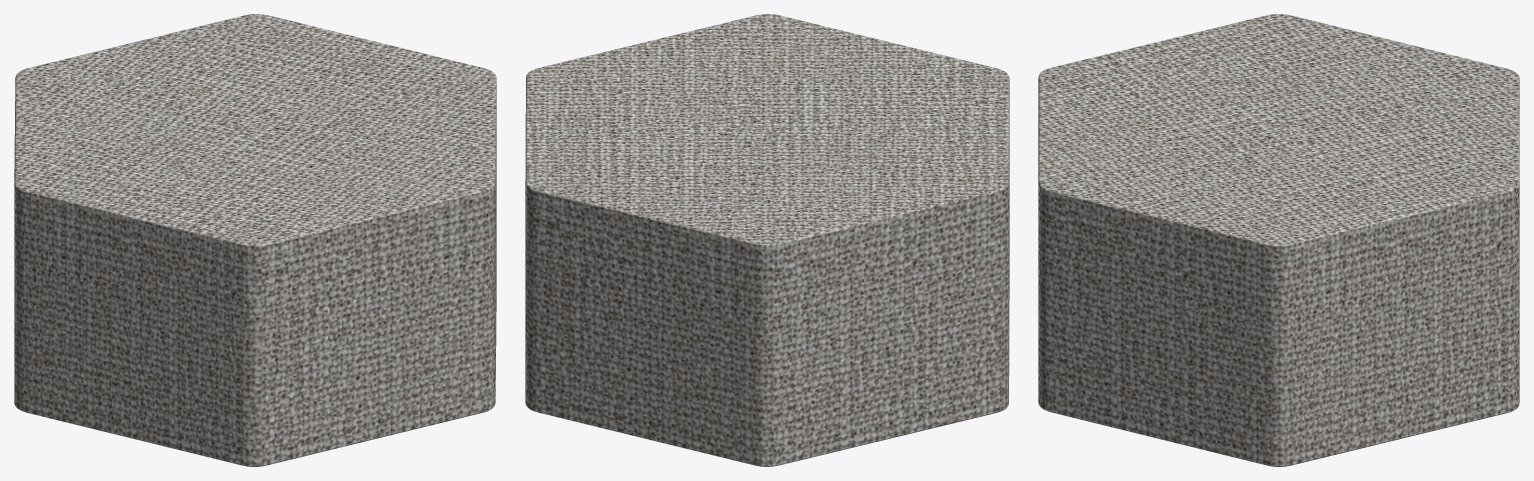
3 views of the same model, side by side, from view 1: azimuth 30°, elevation 25°; view 2: azimuth 150°, elevation 25°; view 3: azimuth 270°, elevation 25° (orthographic).
Parts seen in each view (by area): view 1: dbb0b497-5337-44ae-b9cd-30f90f98fd4a_0; view 2: dbb0b497-5337-44ae-b9cd-30f90f98fd4a_0; view 3: dbb0b497-5337-44ae-b9cd-30f90f98fd4a_0.
Boxes of the visible parts, box(x1,y1,x2,y2) form: dbb0b497-5337-44ae-b9cd-30f90f98fd4a_0: box(14, 14, 496, 466); dbb0b497-5337-44ae-b9cd-30f90f98fd4a_0: box(525, 14, 1009, 466); dbb0b497-5337-44ae-b9cd-30f90f98fd4a_0: box(1038, 14, 1519, 466).
Size of the model in its own units: 0.4972 by 0.2311 by 0.4354.
Materials: 2 (1 with a texture image).
